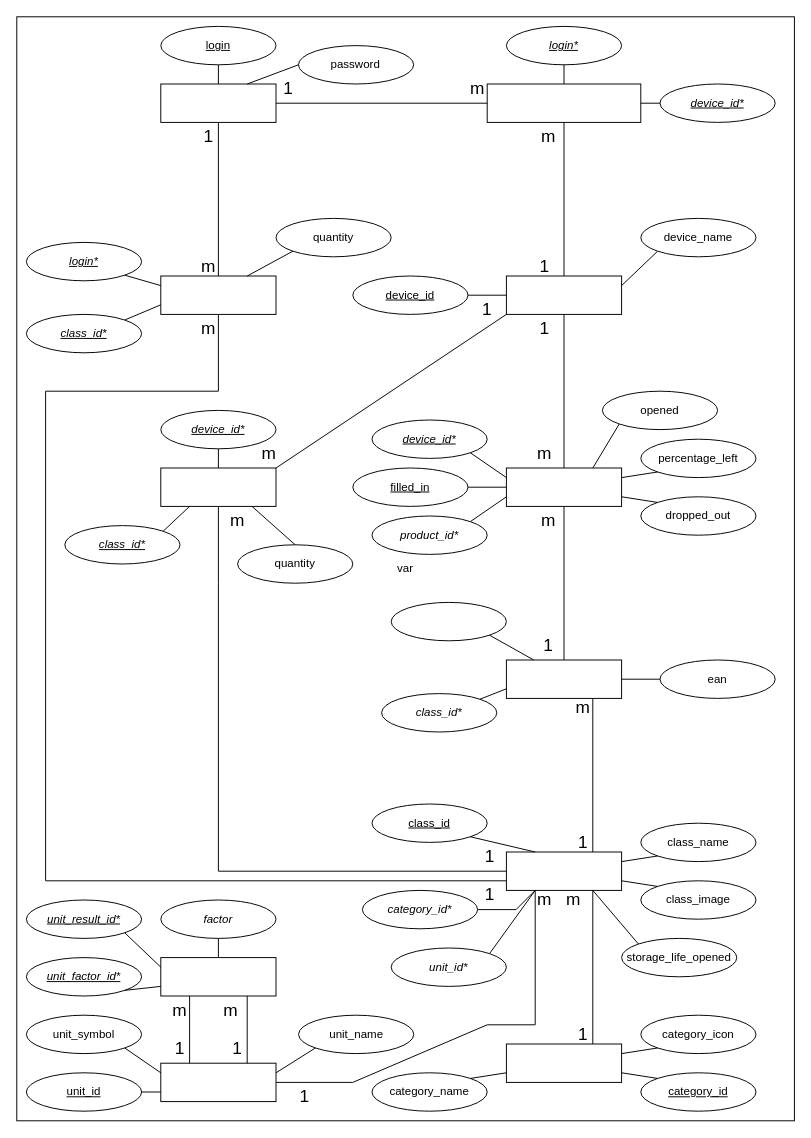
The diagram is 811 pixels wide and 1138 high, and some of its shapes have lost their labels. Each missing label, with the centre of its shape:
device: (x=563, y=294)
device_content: (x=563, y=486)
fridge_user: (x=218, y=102)
fridge_user_device_relation: (x=563, y=102)
product: (x=563, y=678)
product_category: (x=563, y=1062)
product_class: (x=563, y=870)
product_id: (x=448, y=621)
required_content: (x=218, y=486)
shopping_list: (x=218, y=294)
unit: (x=218, y=1082)
unit_conversion: (x=218, y=976)
